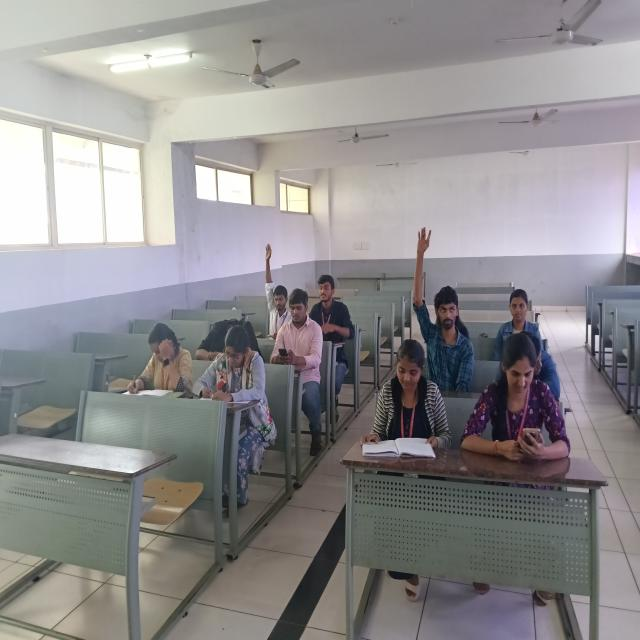Hand Rising: (410, 215, 484, 390), (252, 235, 297, 342)
Reading: (356, 330, 449, 459)
Sleeping: (195, 293, 260, 368)
Using Phone: (459, 340, 569, 456), (270, 280, 326, 380)
Writing: (197, 333, 276, 423), (123, 322, 189, 407)
